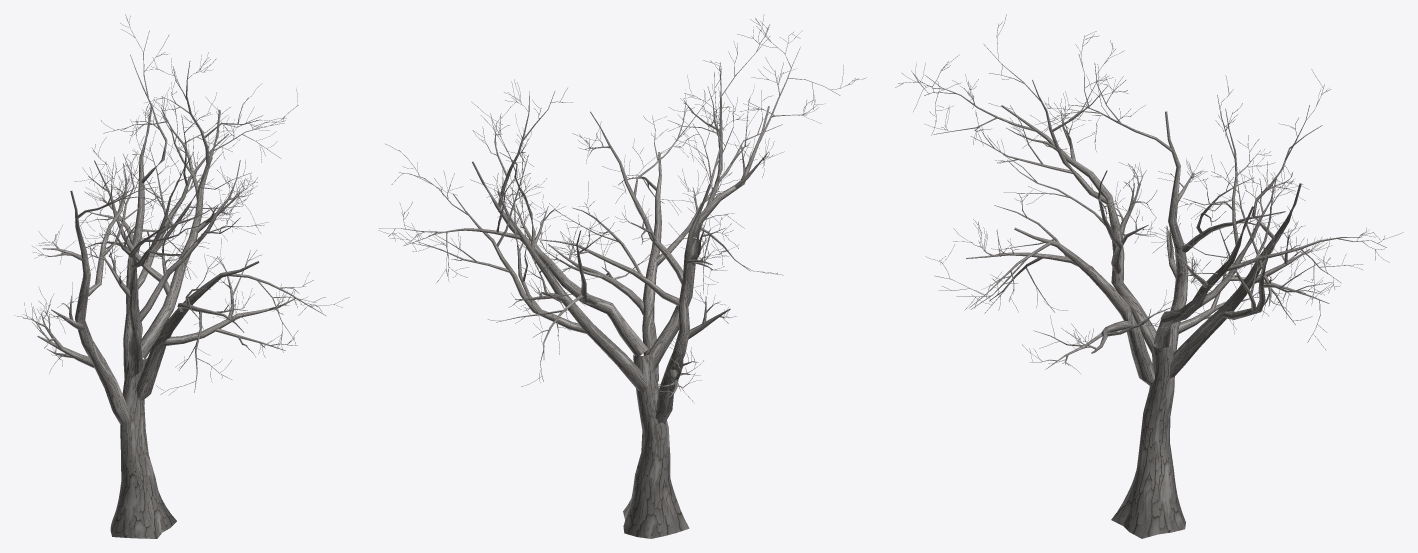
The model's file is tree-dead.glb.
3 views of the same model, side by side, from view 1: azimuth 30°, elevation 25°; view 2: azimuth 150°, elevation 25°; view 3: azimuth 270°, elevation 25° (orthographic). The views are drawn at different scales.
Parts seen in each view (by area): view 1: bark; view 2: bark; view 3: bark.
Part boxes in pixels (left/top/right/bottom): bark: left=14, top=14, right=349, bottom=538; bark: left=378, top=14, right=866, bottom=538; bark: left=895, top=14, right=1403, bottom=538.
Size of the model in its own units: 8.23 by 11.47 by 10.89.
2 materials, 2 textured.
